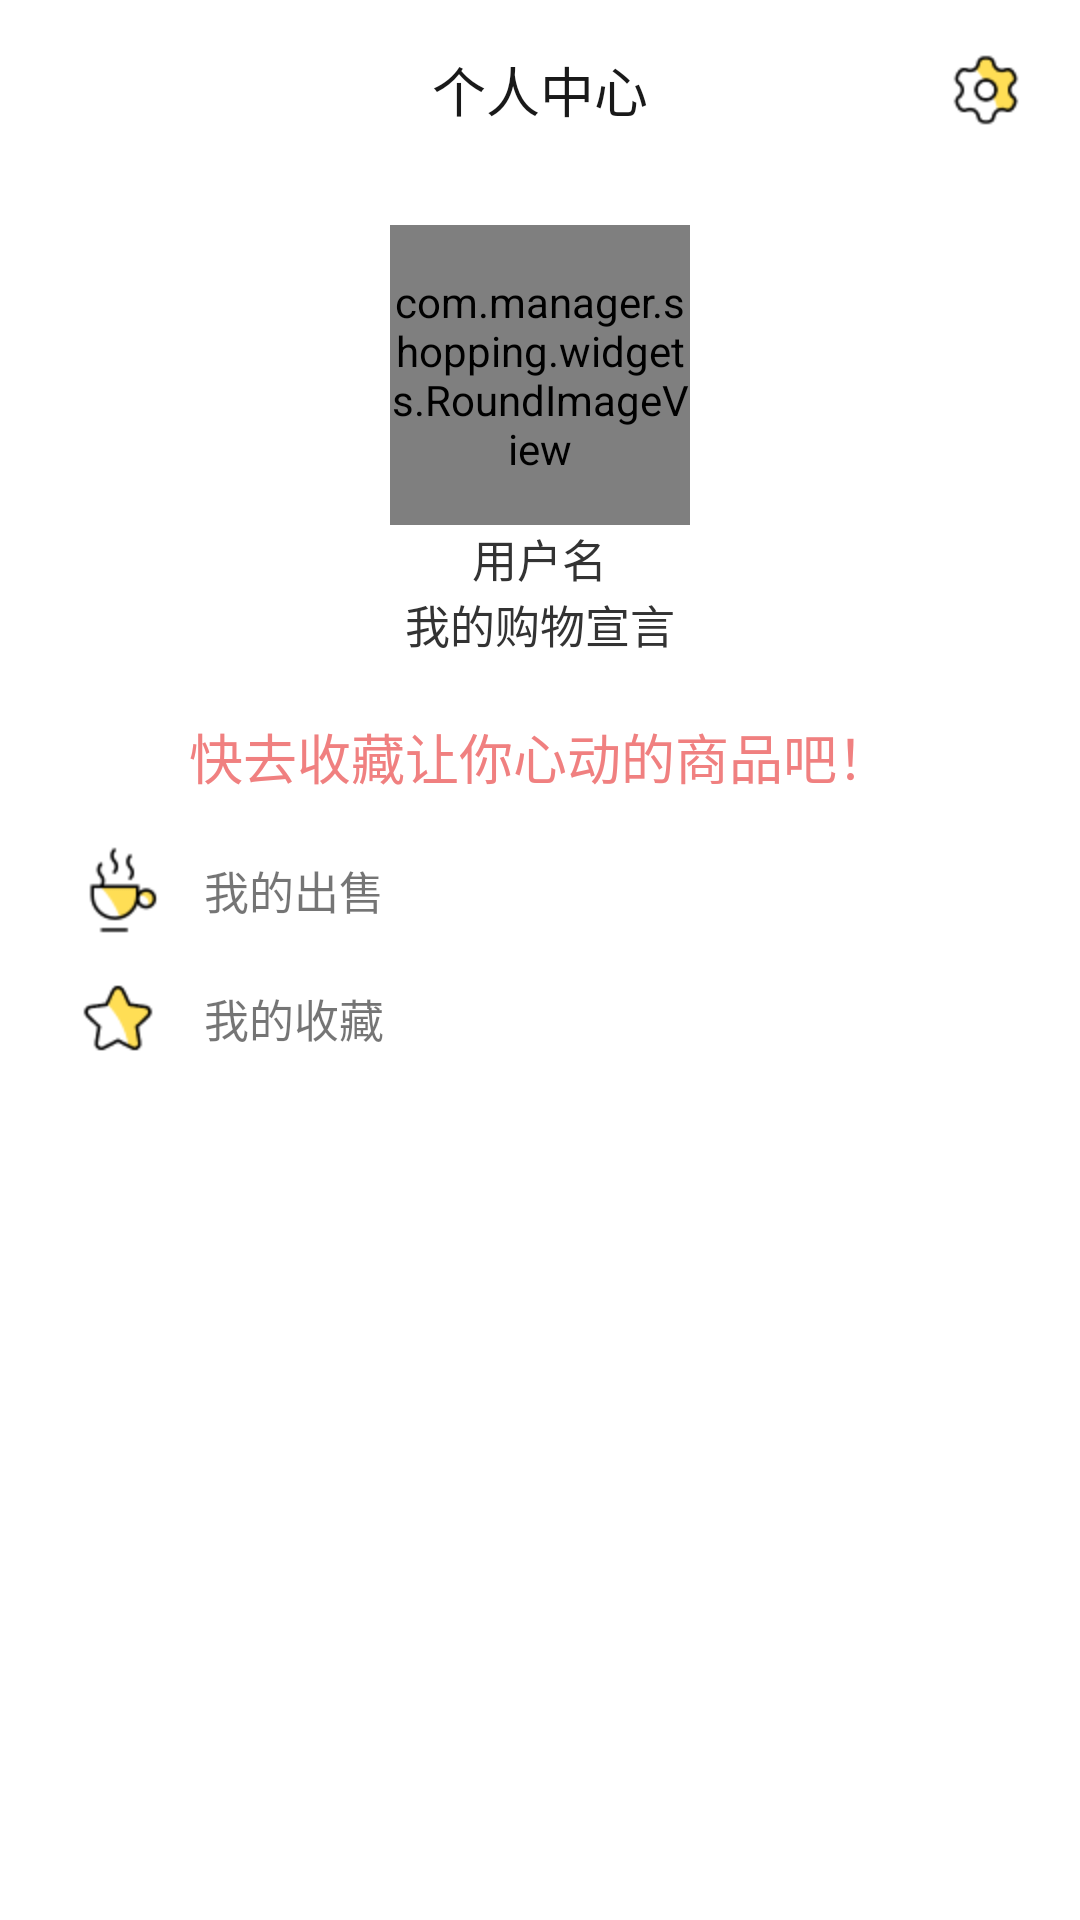

Point at icon controls on the screen. Image size 1080 x 1920, points as (x=x, y=y).
shop like: (x=118, y=1018)
shop setting: (x=986, y=90)
